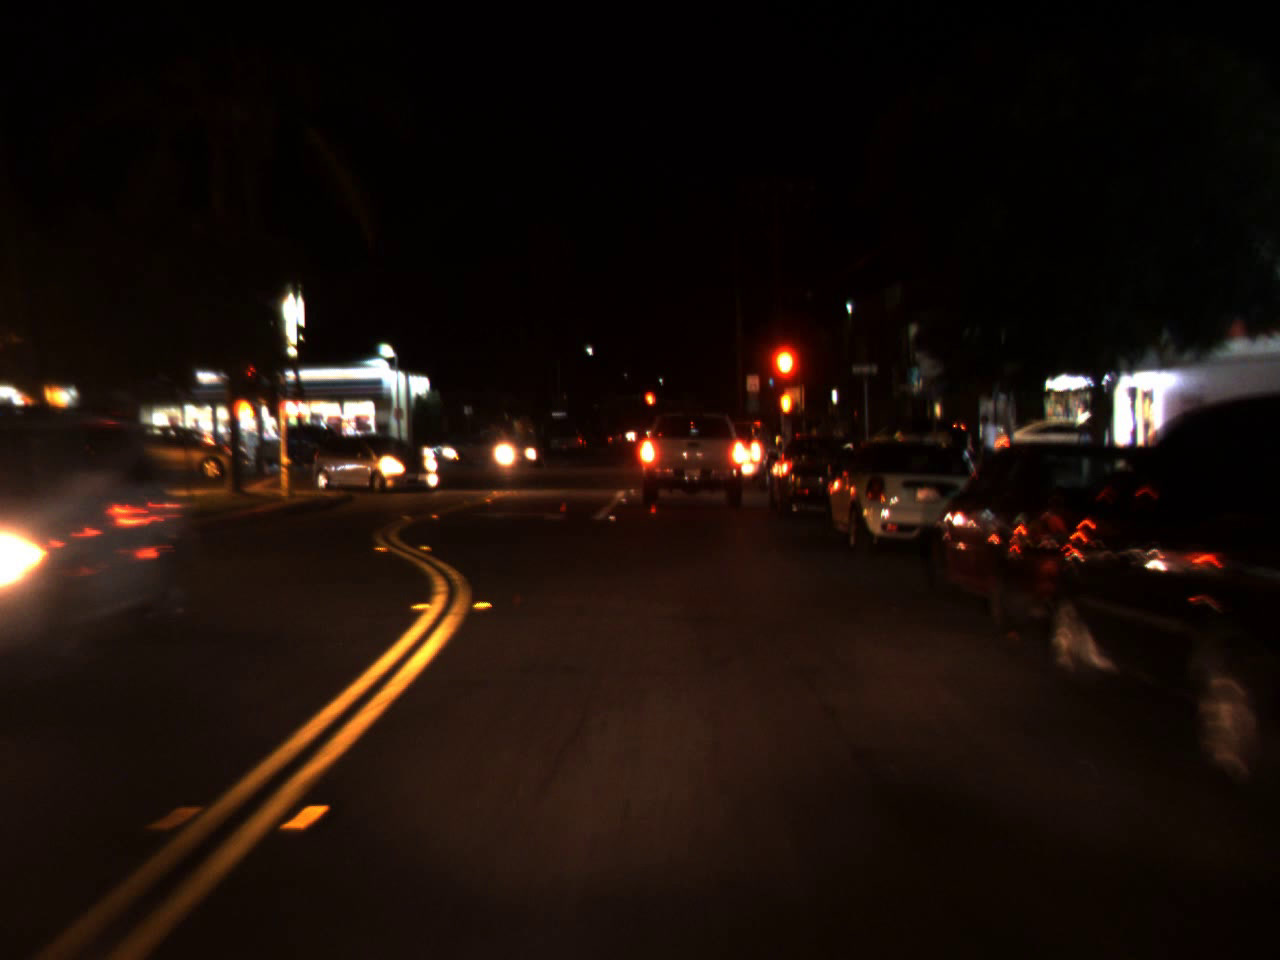stop: (768, 346, 796, 408), (241, 362, 259, 391), (643, 389, 656, 421)
